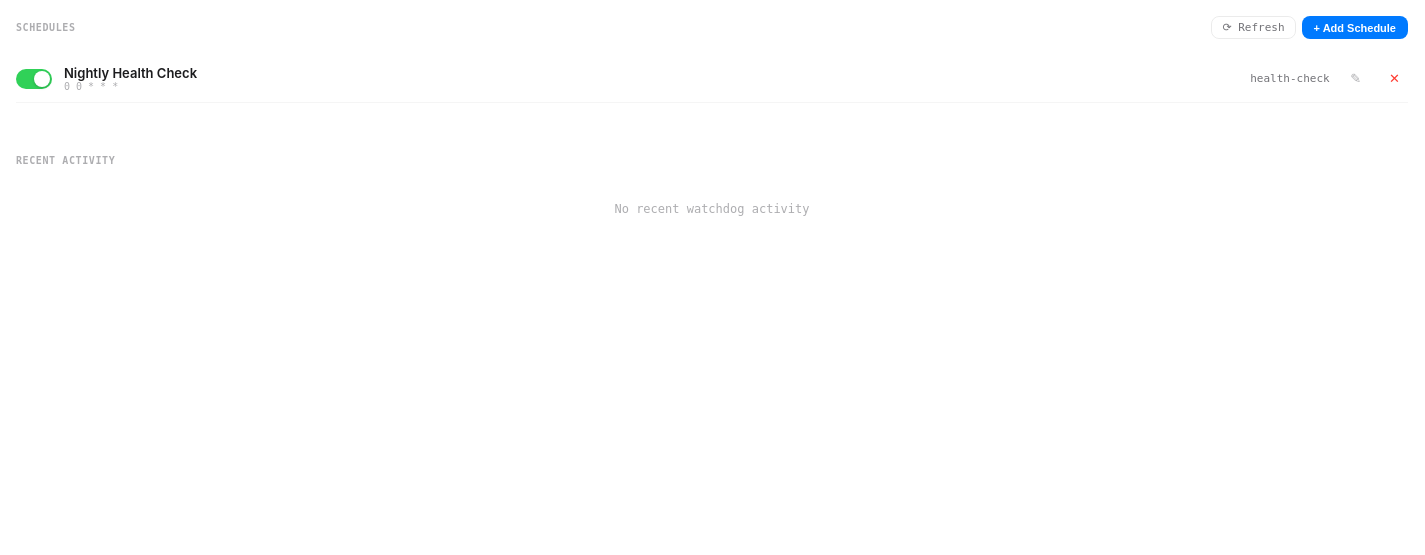
Test: WatchDogPage › opens edit form with pre-filled values
Click the button with test id "schedule-edit-s1": click(1356, 78) left=1342, top=67, right=1369, bottom=90
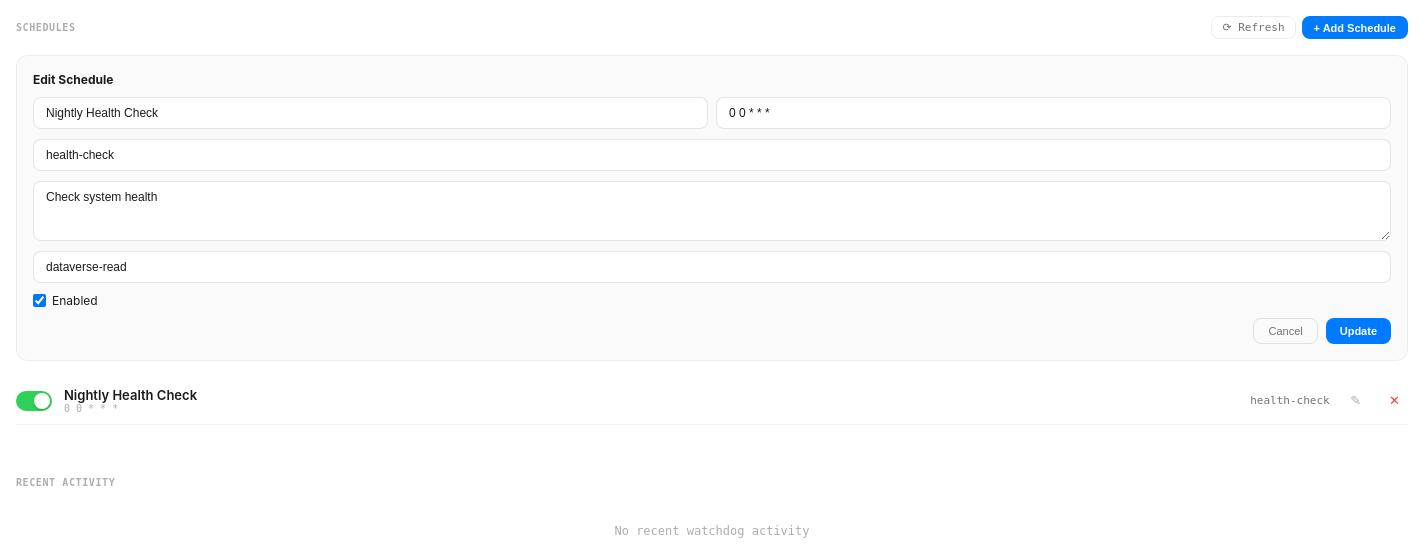
Expected: the element with test id "watchdog-schedule-form" is shown, left=16, top=55, right=1408, bottom=361
Expected: the text "Edit Schedule" is shown, left=33, top=72, right=113, bottom=87
Expected: the field with test id "schedule-name-input" holds "Nightly Health Check", left=33, top=97, right=708, bottom=129
